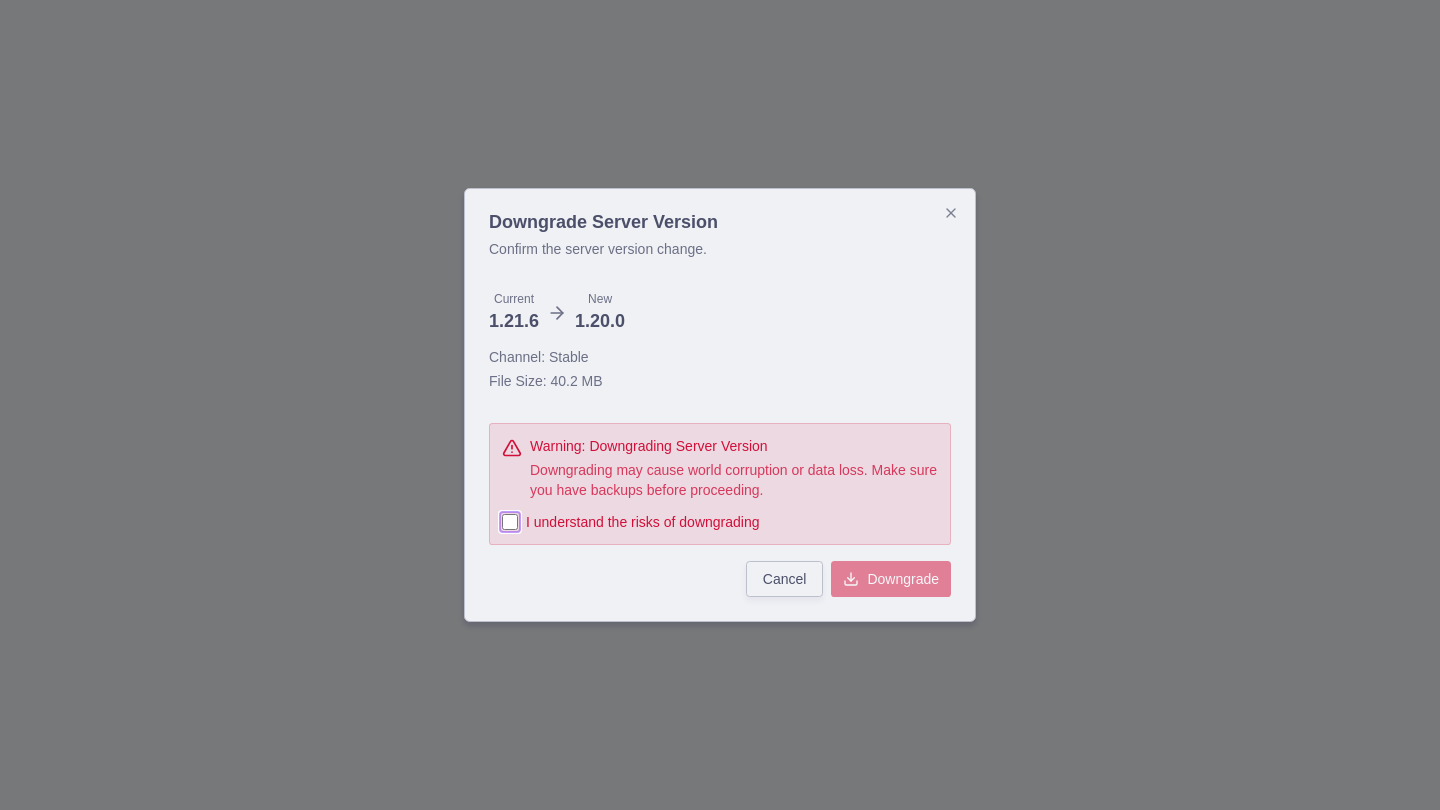
Test: InstallVersionDialog › warnings › disables install button until downgrade confirmed
Expected: the button with test id "confirm-button" is disabled, [831,561,951,597]
// Check the checkbox
Click the checkbox with test id "downgrade-checkbox": (510, 522) [502,514,518,530]
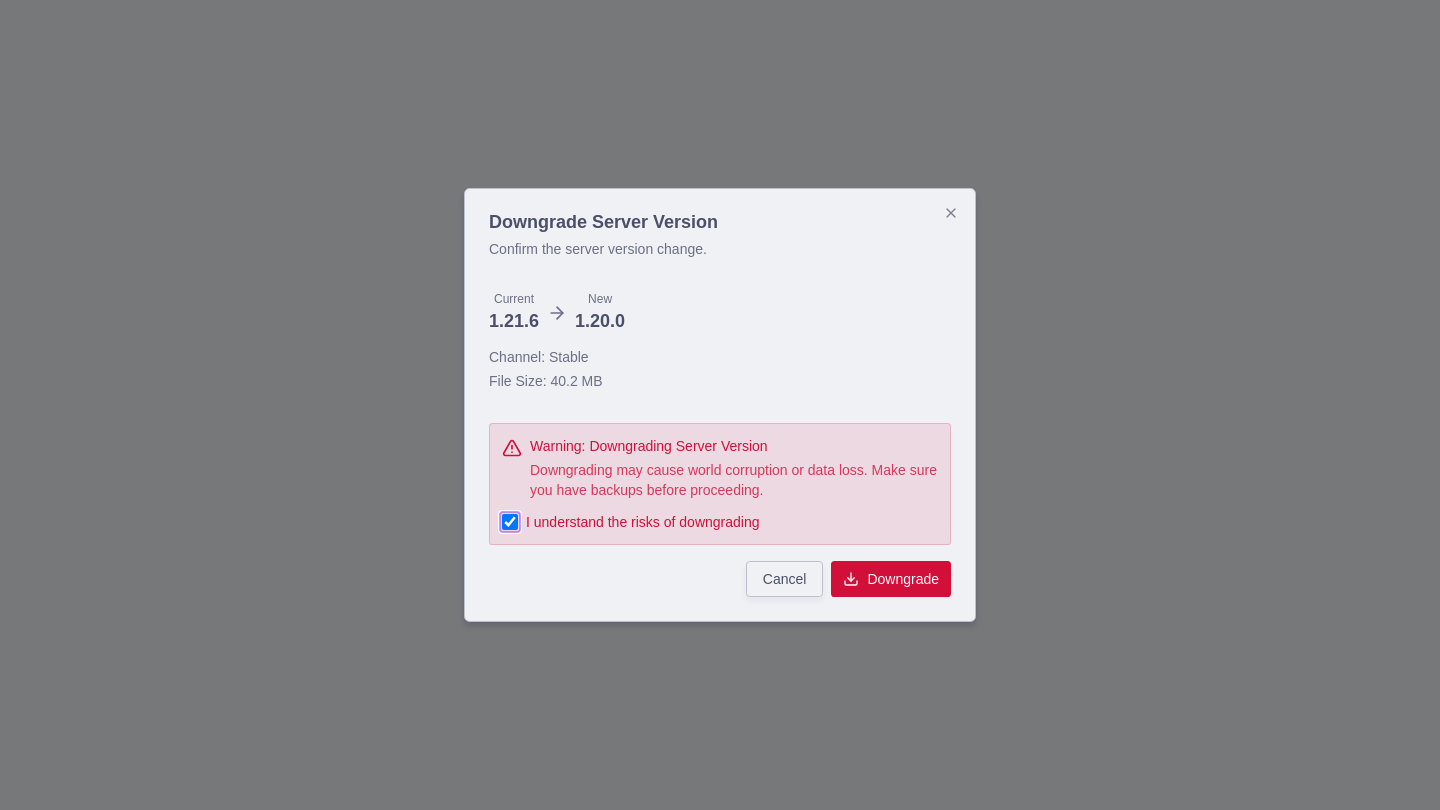
Expected: the button with test id "confirm-button" is enabled, [831,561,951,597]
